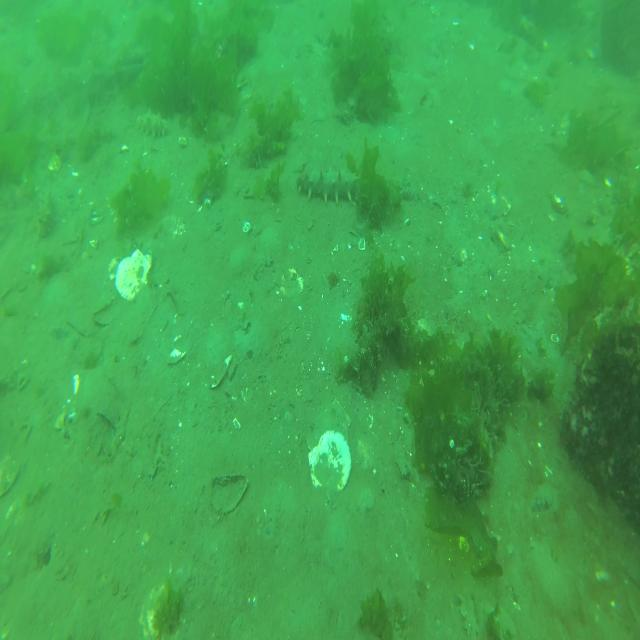holothurian: (295, 167, 360, 205), (137, 108, 170, 140), (141, 150, 169, 175)
scallop: (308, 431, 353, 495), (306, 398, 351, 452), (141, 586, 186, 640), (116, 247, 152, 302), (73, 339, 104, 369), (280, 267, 305, 301), (484, 194, 513, 221), (1, 457, 18, 502), (521, 13, 542, 48), (211, 355, 231, 389), (163, 216, 186, 237), (108, 254, 117, 283), (178, 133, 188, 147), (89, 217, 103, 225)
